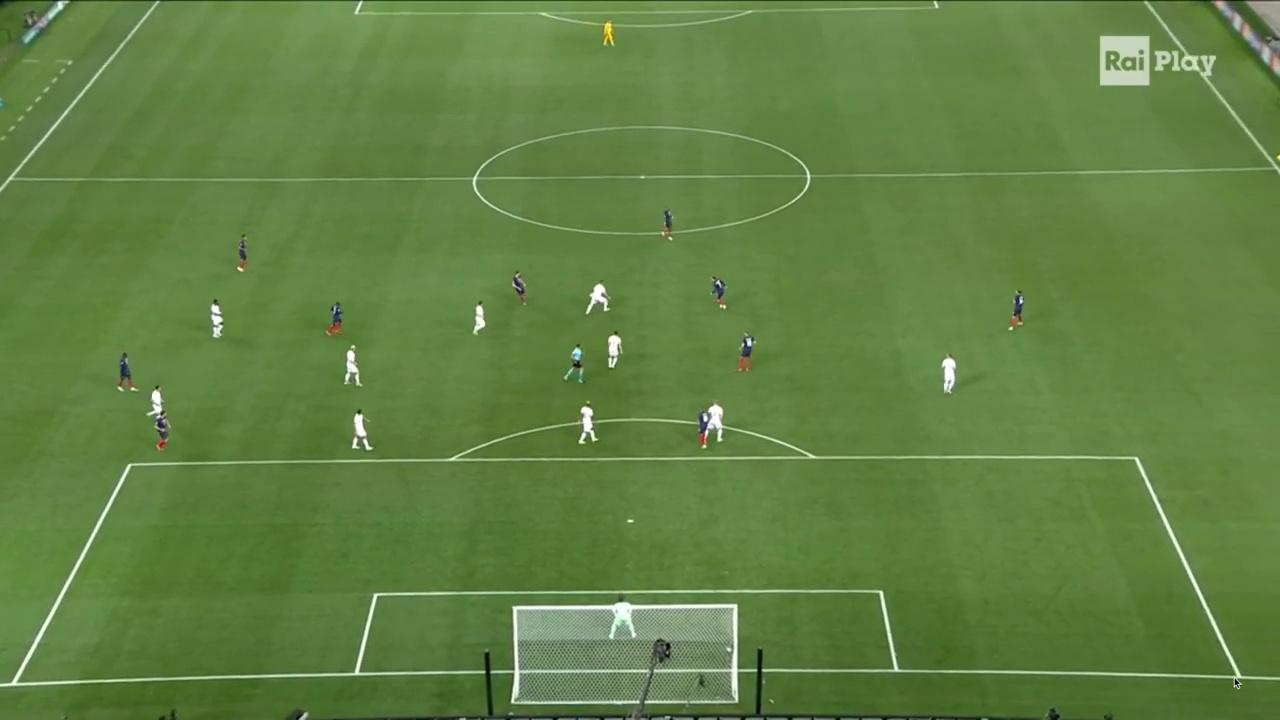goalkeeper: (607, 594, 639, 642), (600, 15, 618, 49)
player: (348, 407, 377, 453), (575, 398, 602, 446), (115, 345, 141, 394), (732, 329, 758, 374), (584, 278, 613, 316), (341, 344, 365, 389), (704, 397, 724, 450), (152, 408, 174, 452), (1006, 287, 1027, 331), (323, 299, 346, 339), (939, 351, 959, 397), (707, 273, 729, 314), (695, 404, 715, 449), (144, 383, 165, 421), (208, 296, 226, 340), (606, 327, 624, 371), (510, 268, 528, 309), (471, 298, 488, 336), (236, 231, 251, 274), (659, 203, 674, 243)
referee: (561, 341, 588, 386)
